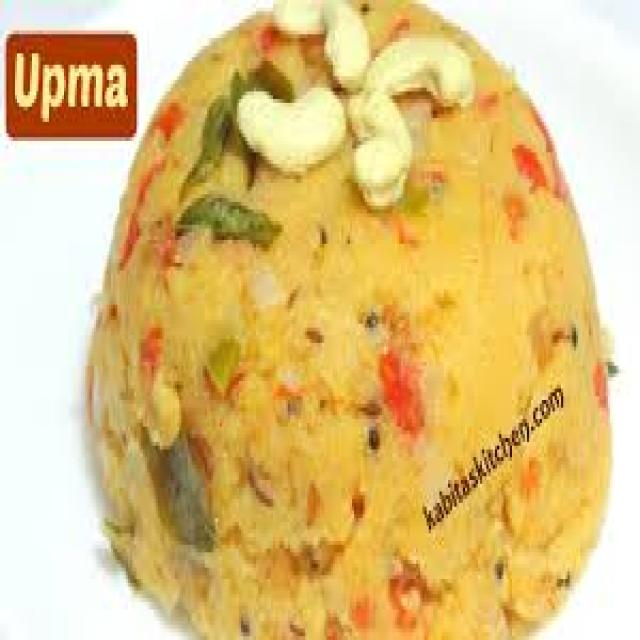POHA: (81, 0, 606, 636)
